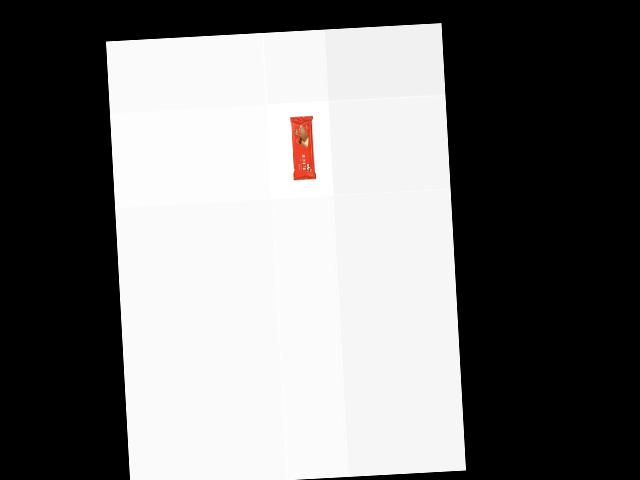chocolate: (289, 116, 316, 182)
